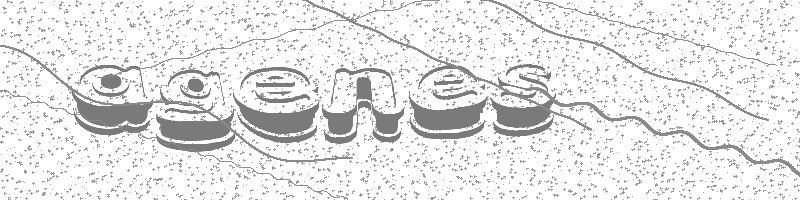a: (71, 64, 154, 136)
e: (232, 66, 322, 143), (407, 66, 487, 138)
g: (155, 68, 236, 152)
n: (321, 67, 406, 143)
s: (488, 63, 555, 136)
